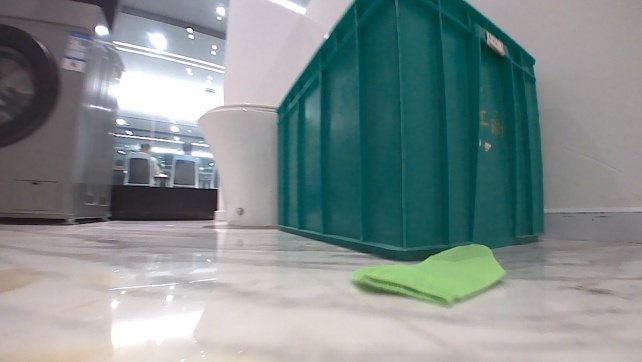socks: (348, 239, 514, 307)
toilet: (194, 103, 283, 229)
washing_machine1: (0, 0, 128, 228)
